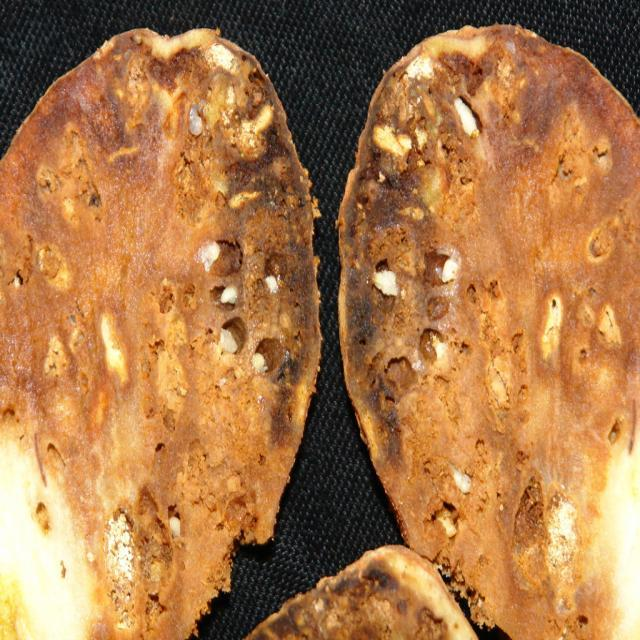Cookie: (0, 27, 321, 640), (339, 23, 640, 639), (232, 547, 478, 640)
